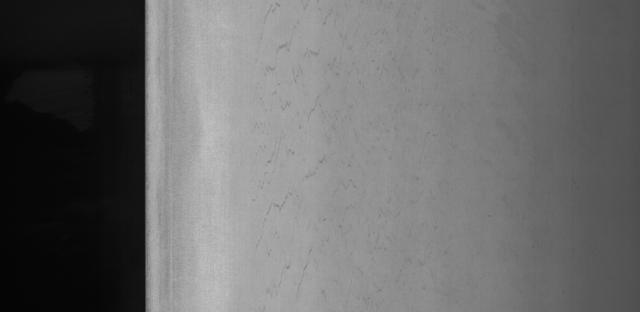silk_spot: (247, 4, 384, 218)
